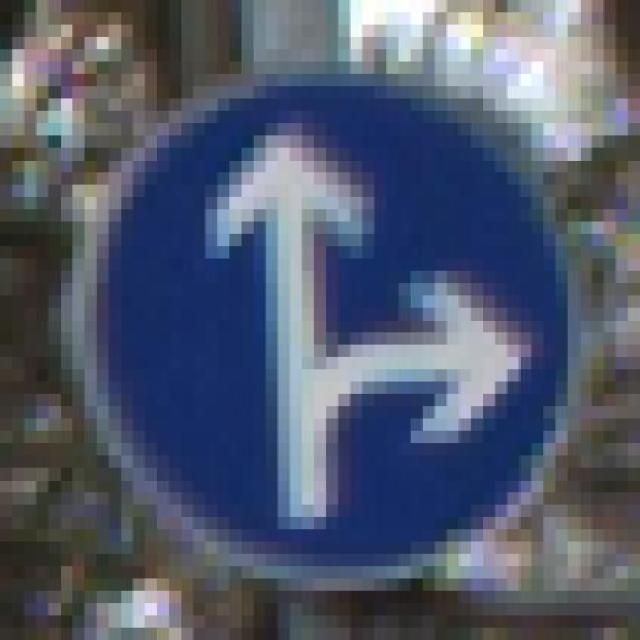Go Straight or Turn Right: (85, 74, 592, 578)
